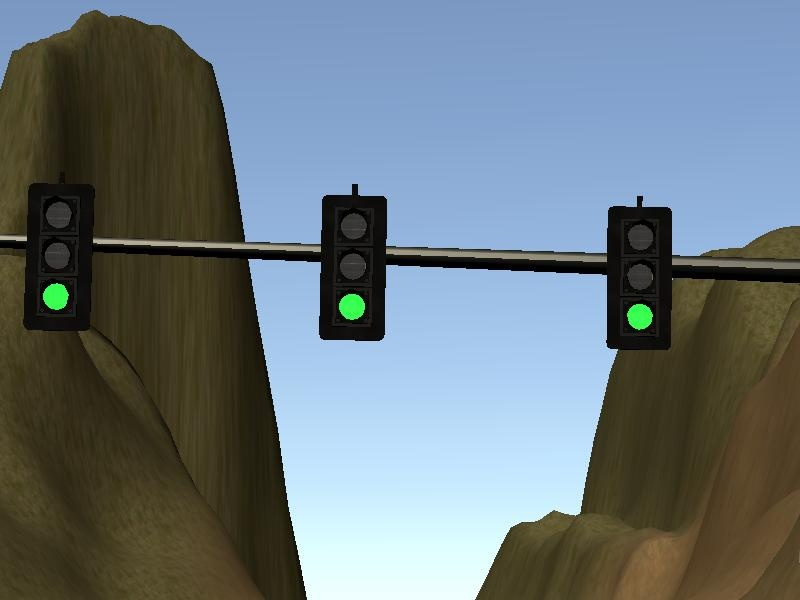green: (313, 181, 394, 356), (600, 191, 680, 358), (25, 176, 97, 342)
